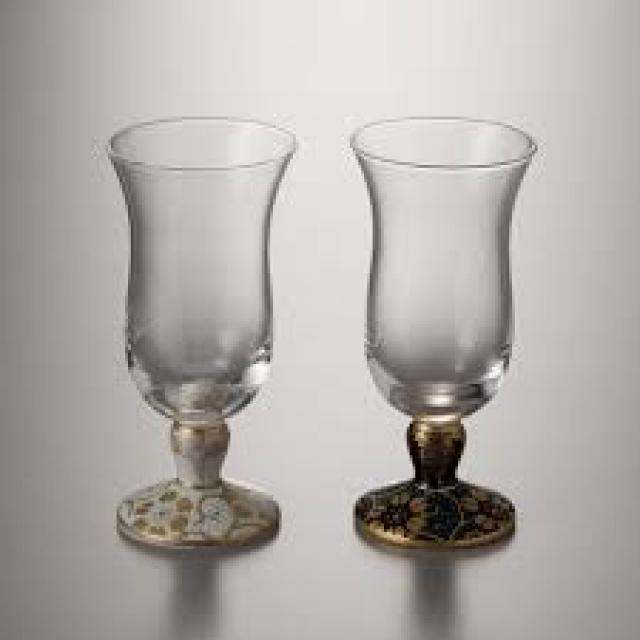Glass: (348, 115, 542, 556), (106, 114, 297, 552)
